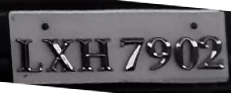0: (173, 32, 200, 76)
2: (198, 33, 226, 74)
7: (116, 33, 146, 74)
9: (144, 32, 173, 75)
H: (76, 35, 113, 74)
L: (13, 36, 44, 76)
X: (42, 36, 75, 74)
